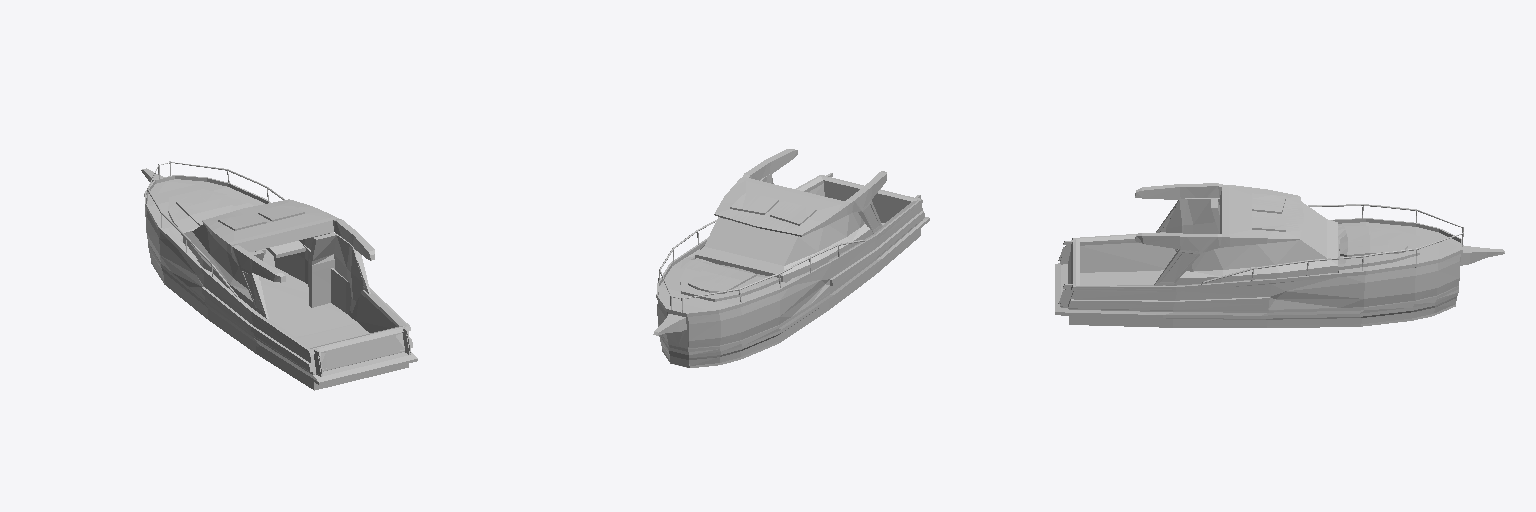
File: Yatch.obj
The picture shows the model from 3 angles: view 1: azimuth 30°, elevation 25°; view 2: azimuth 150°, elevation 25°; view 3: azimuth 270°, elevation 25°; orthographic projection.
Parts seen in each view (by area): view 1: Boat; view 2: Boat; view 3: Boat.
Part boxes in pixels (x1,y1,x2,y2): Boat: (141,161,417,390); Boat: (653,149,929,367); Boat: (1055,183,1504,327).
Bounding box in the file's own units: 3.71 × 2.75 × 12.24.